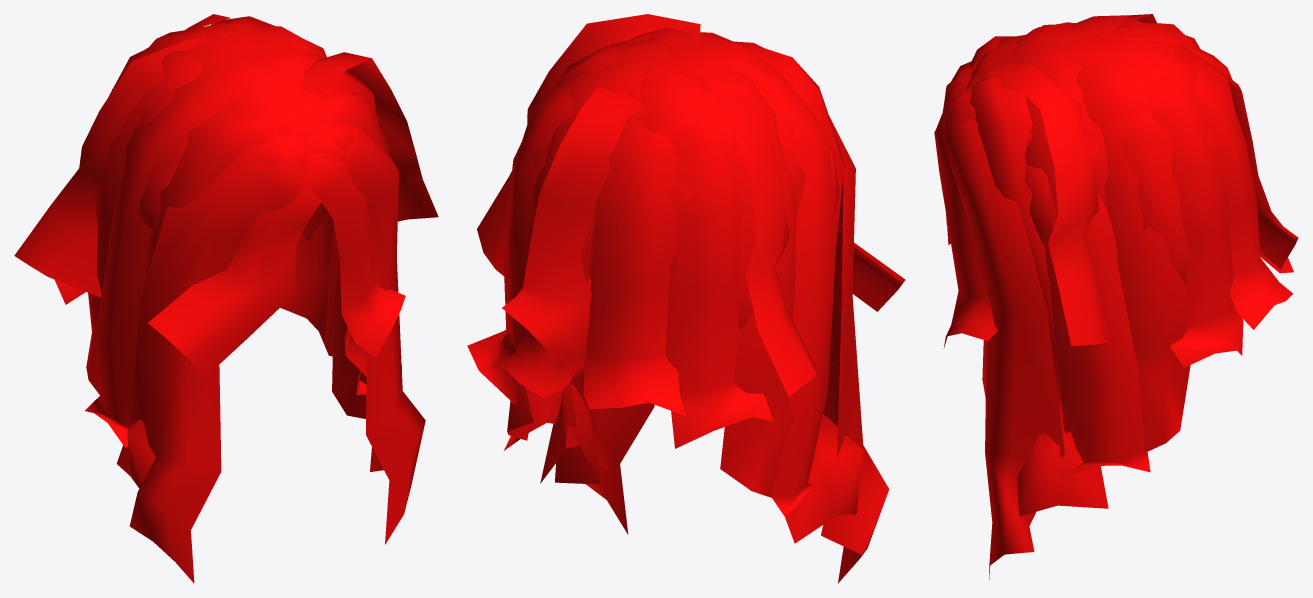
Rendered from cortu_shaggy_green_hair_F.glb.
3 views of the same model, side by side, from view 1: azimuth 30°, elevation 25°; view 2: azimuth 150°, elevation 25°; view 3: azimuth 270°, elevation 25° (orthographic). The views are drawn at different scales.
Size of the model in its own units: 0.2667 by 0.3505 by 0.2309.
1 material, 1 textured.
